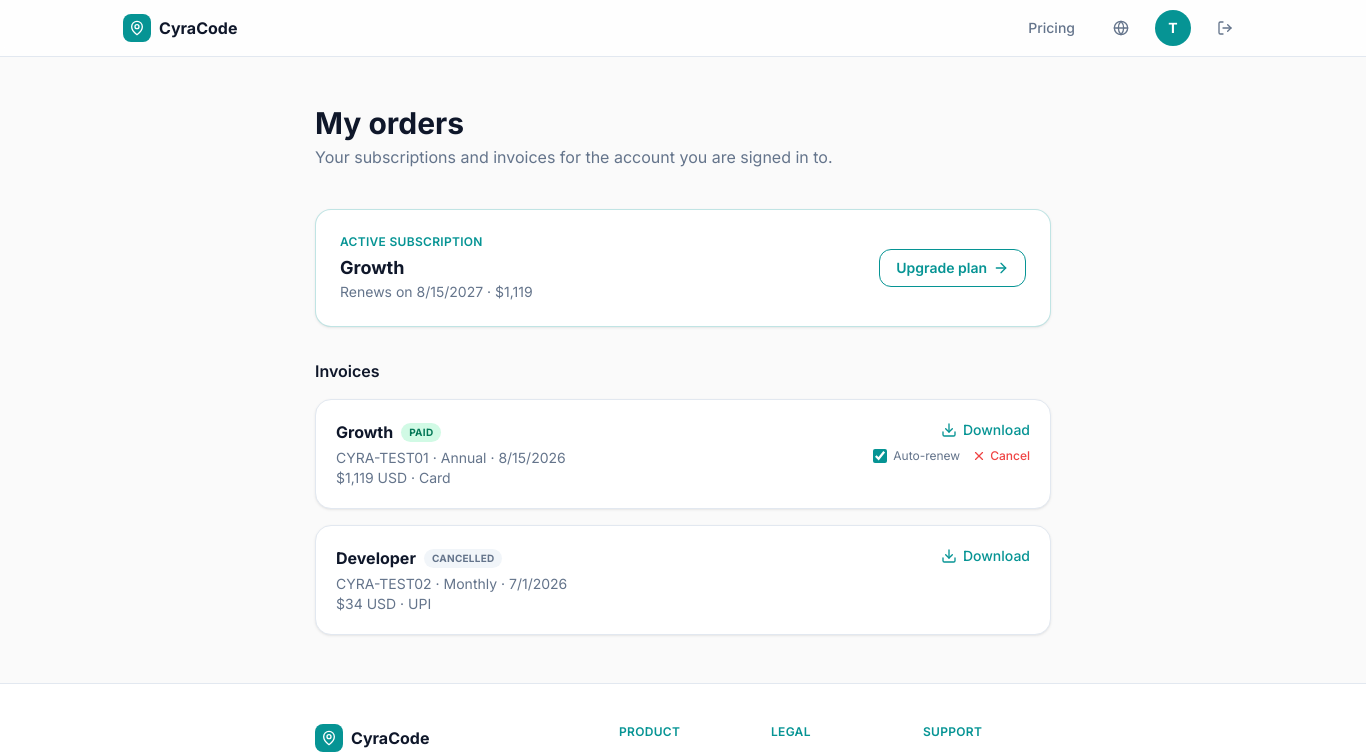
Test case: OrdersPage › cancels a paid subscription and removes it from active state
The image size is (1366, 755).
Click the button "Cancel": coordinates (1001, 456) x1=972 y1=448 x2=1030 y2=464
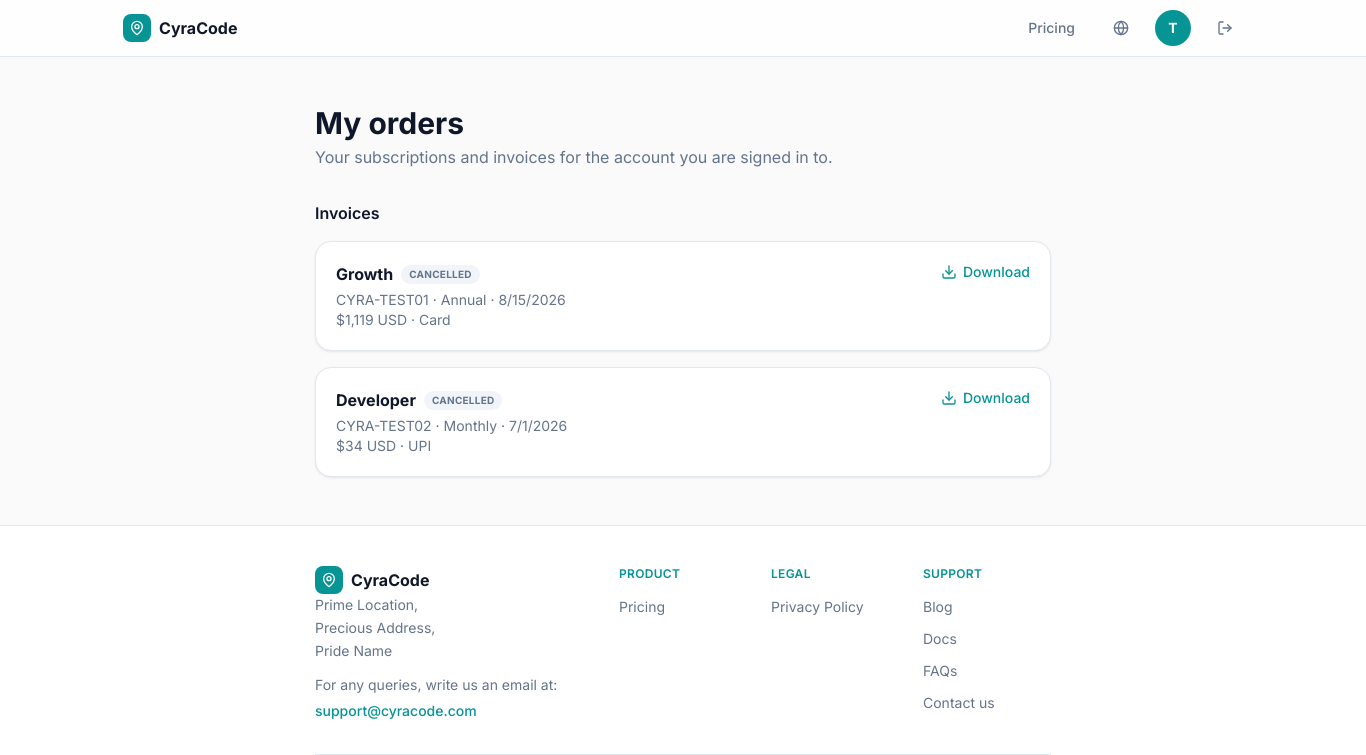
Now the text "Active subscription" is gone
Now the text "cancelled" next to "Growth" is shown, box x1=409 y1=268 x2=472 y2=280
Now the checkbox is gone
